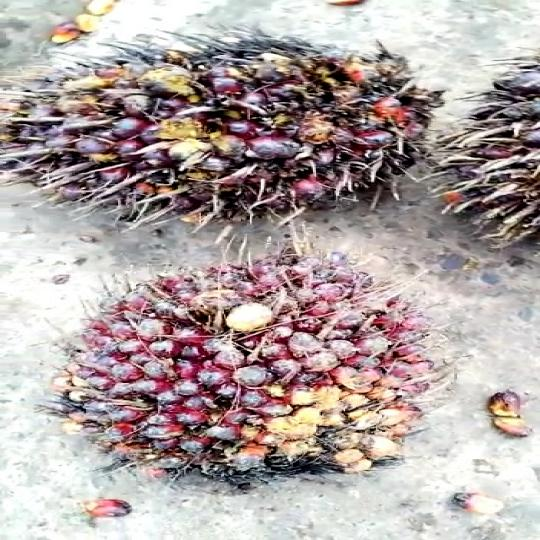masak: (0, 12, 460, 241), (38, 254, 431, 488)
